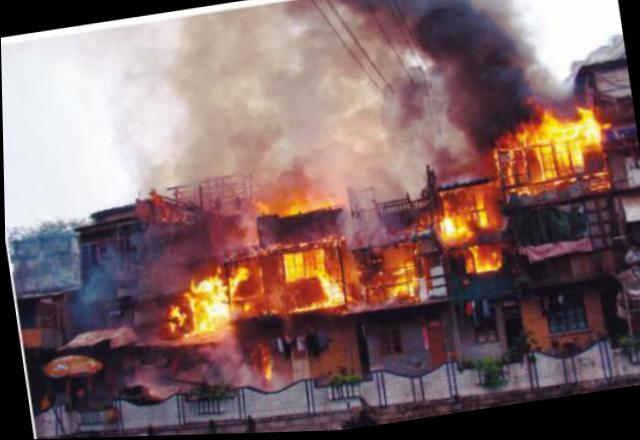fire: (184, 273, 234, 335), (553, 121, 586, 176), (282, 249, 329, 285), (281, 194, 337, 218), (577, 105, 605, 151), (438, 217, 473, 252), (528, 112, 561, 148), (389, 263, 419, 301), (472, 242, 505, 274), (533, 148, 560, 184), (469, 189, 490, 229), (321, 281, 344, 308), (261, 343, 276, 383), (289, 301, 325, 315), (514, 128, 531, 148), (227, 277, 242, 299), (169, 304, 184, 326), (257, 199, 270, 216), (238, 265, 249, 281)
